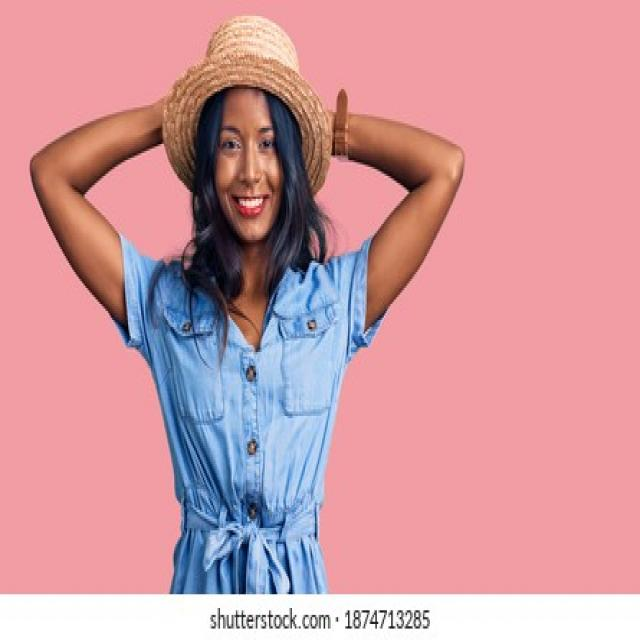hat: (163, 16, 329, 180)
